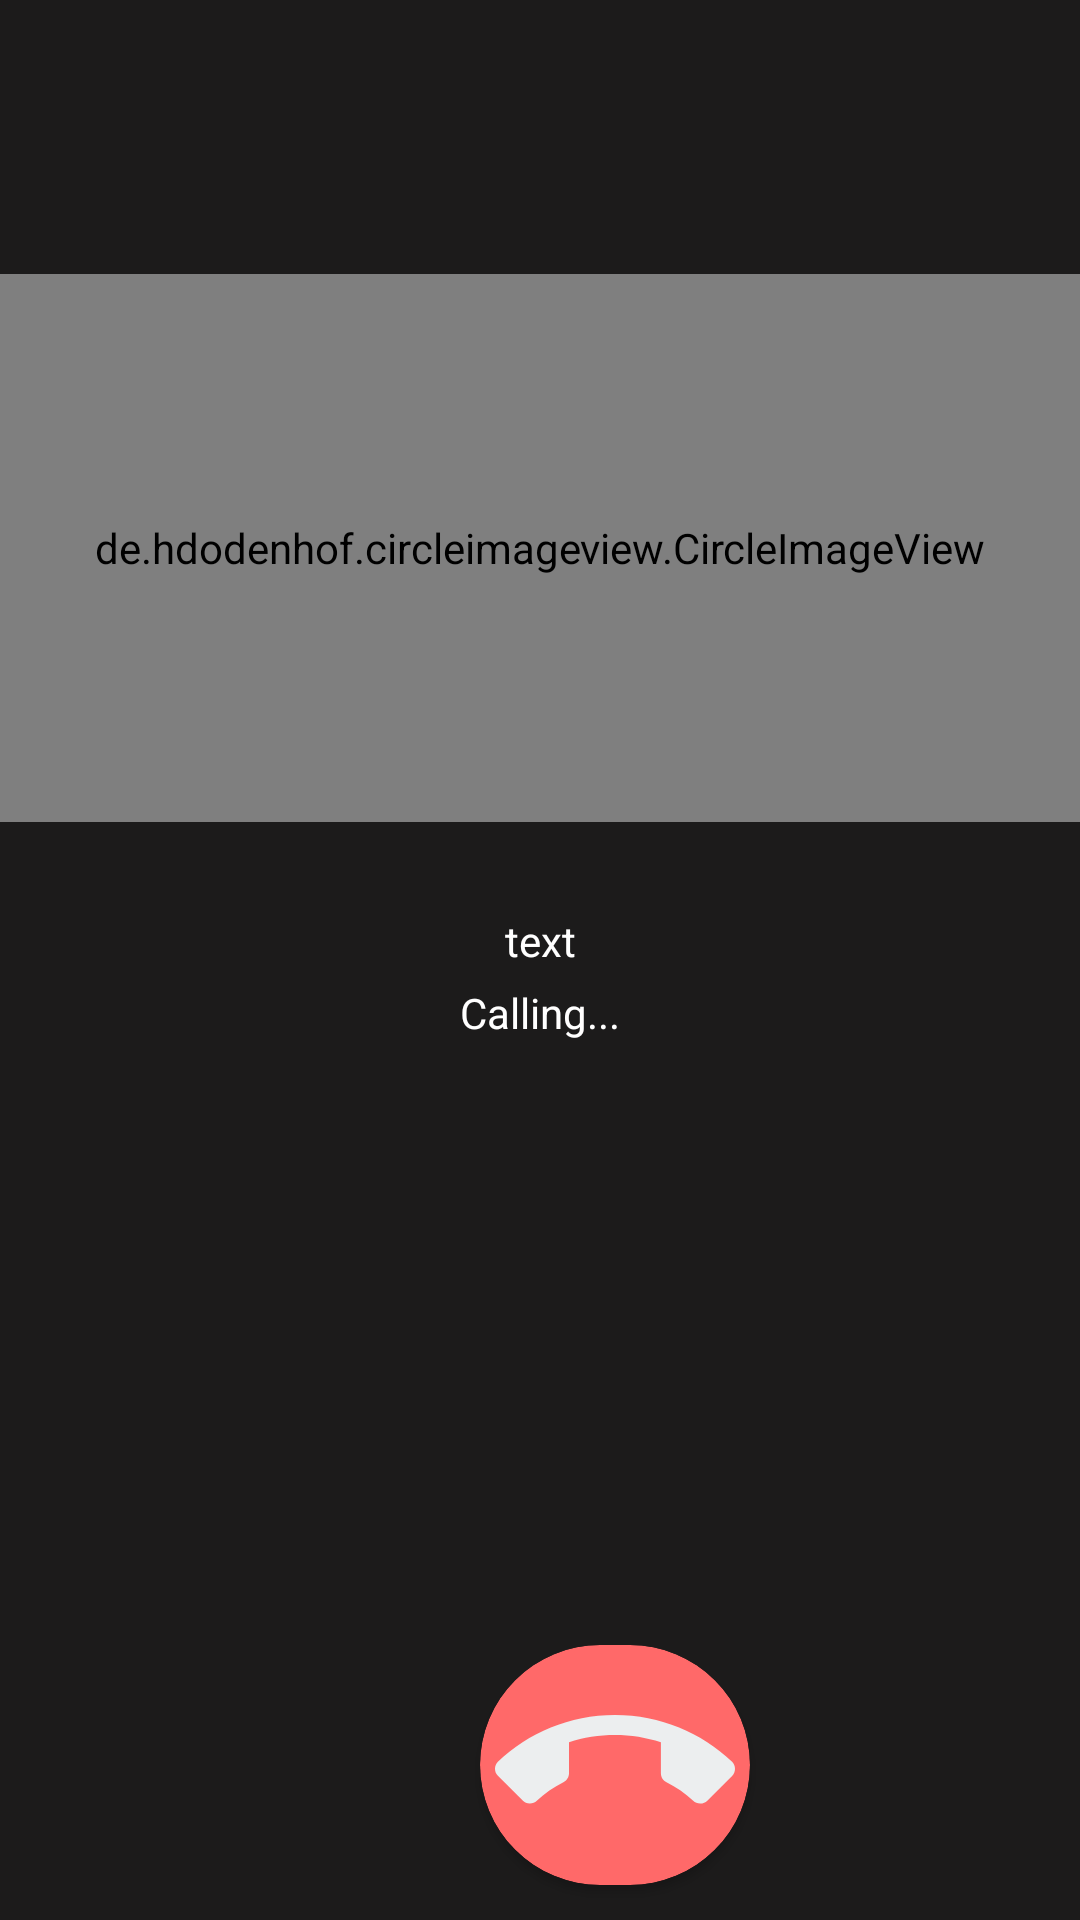

Icon bounding boxes for this 1080×1920 phone screenshot, format detection(x1, y1, x2, y2):
call end: detection(480, 1645, 750, 1885)
